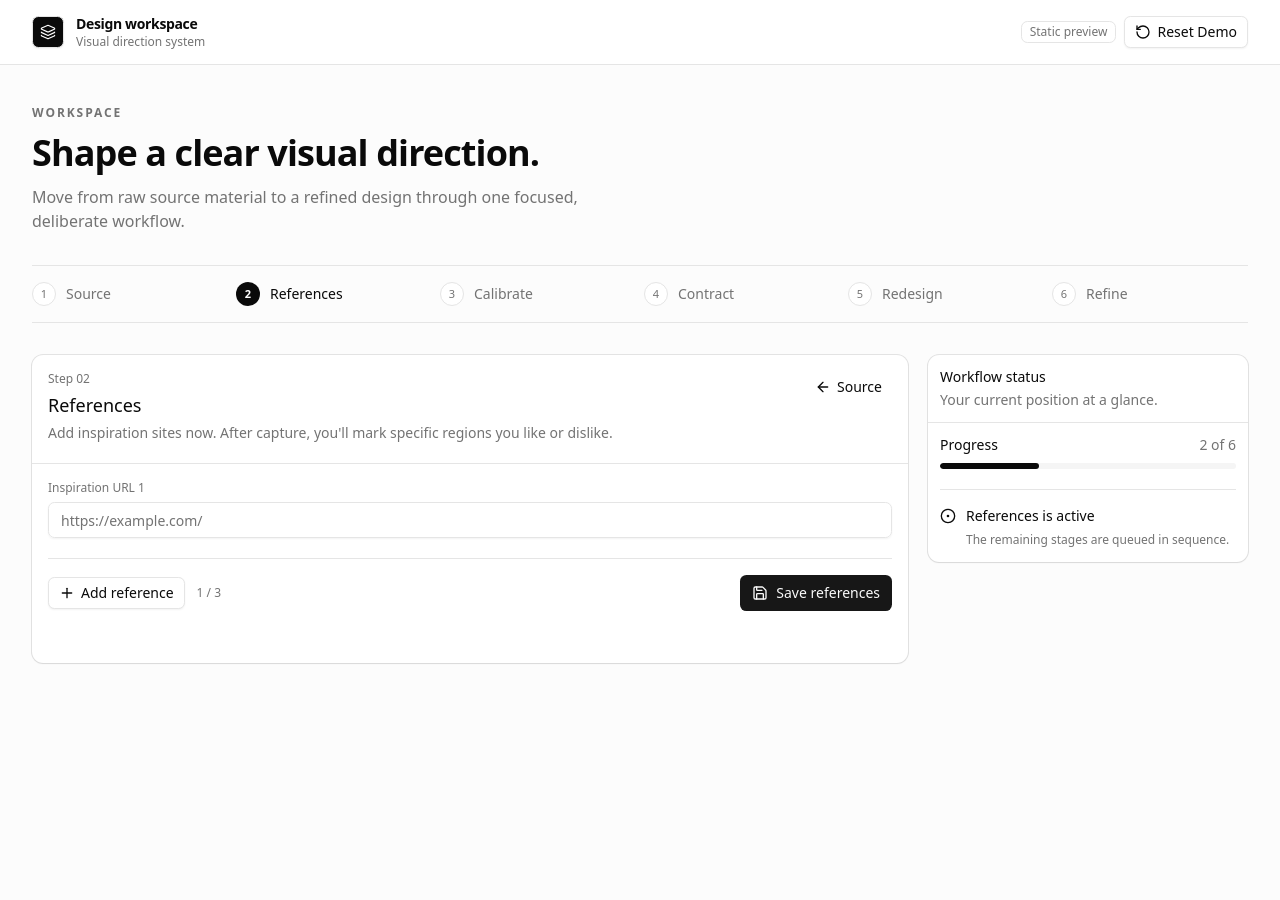
Test: Reset Demo › confirms through the canonical reset exactly once and returns to Source
The image size is (1280, 900).
What coordinates should you click on to do the following:
click the button "Reset Demo"
I would click on:
 (1186, 32)
Its box is [1124,16,1248,48].
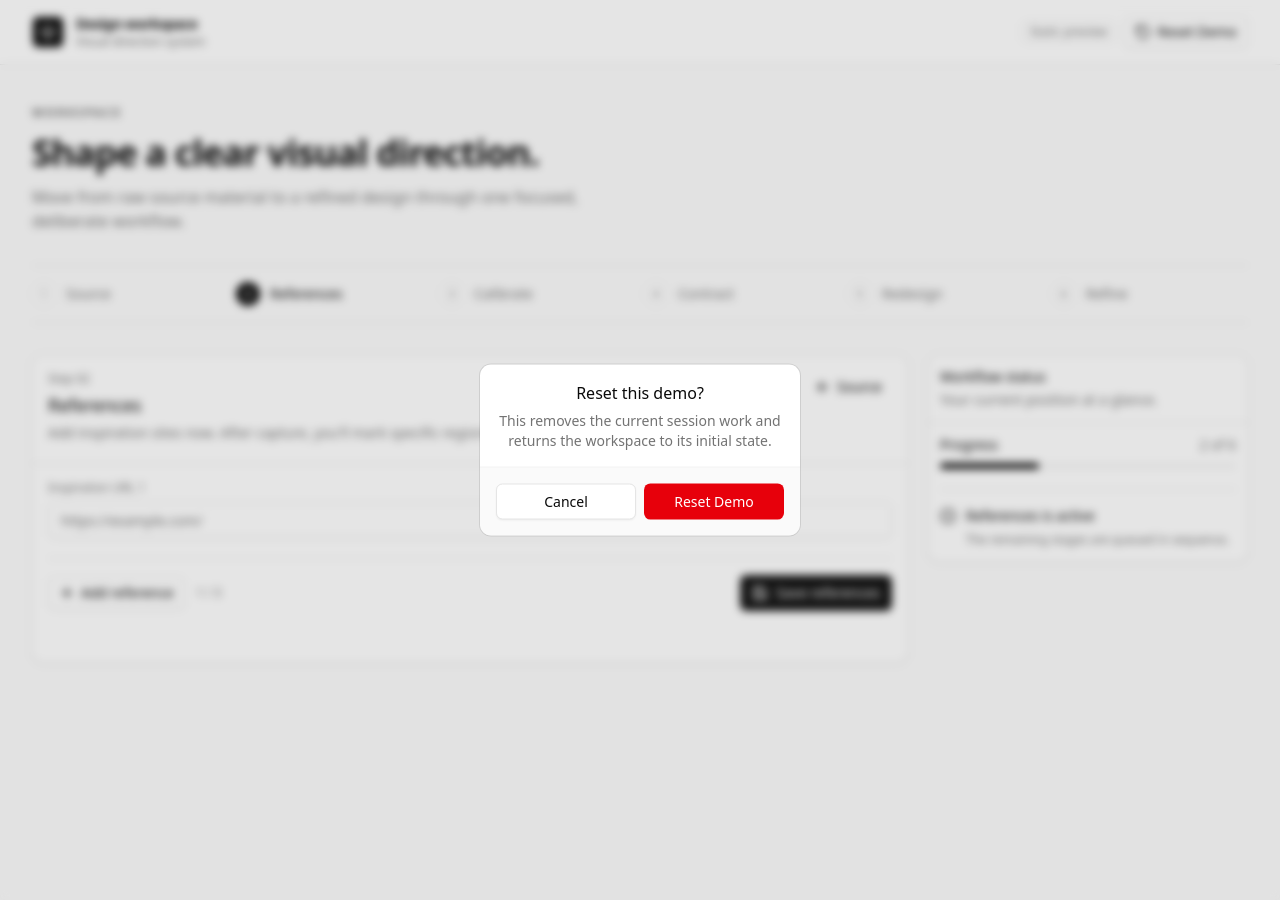
What coordinates should you click on to do the following:
click the button "Reset Demo"
I would click on:
 (714, 502)
Its box is [644,484,784,520].
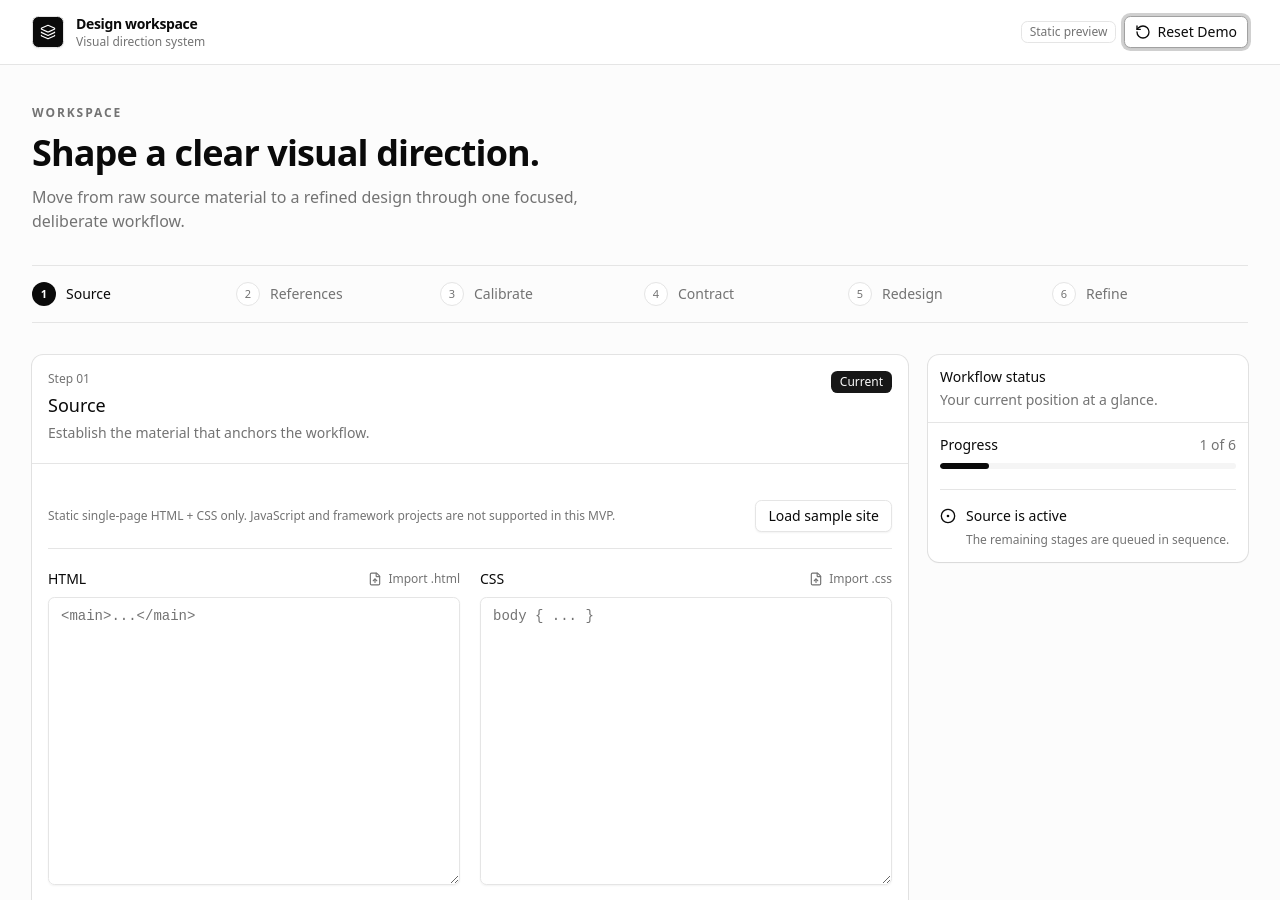
Expected: the list item "1 Source" is shown, [32,282,111,306]
Expected: the dialog is gone
